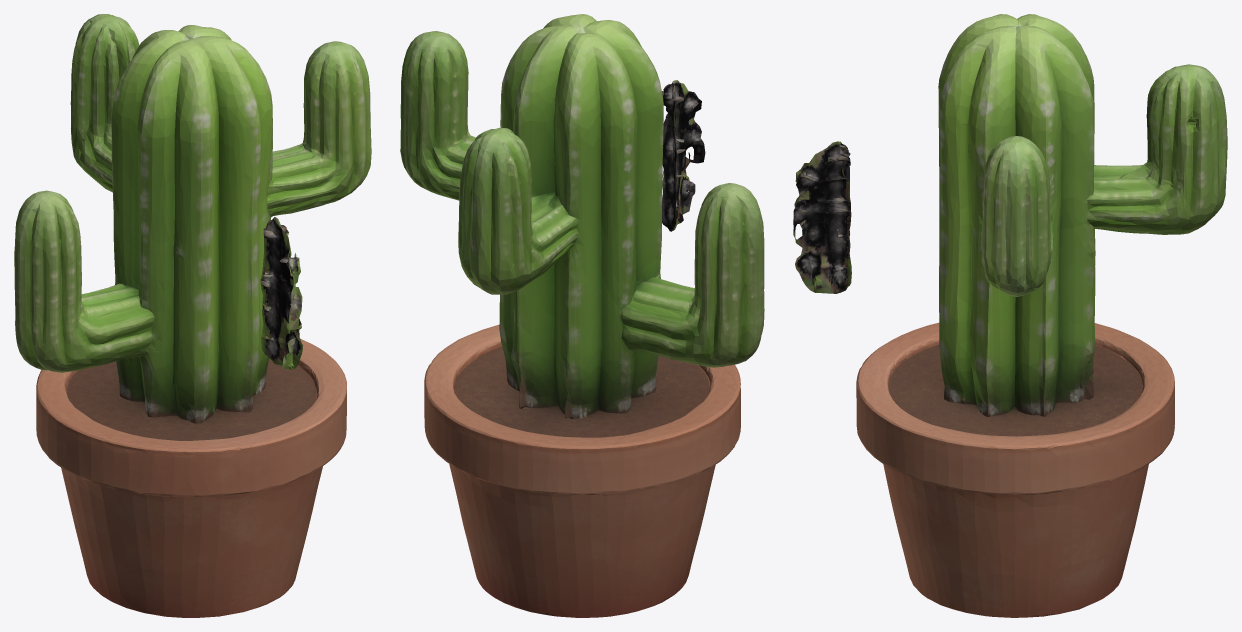
Rendered from cactus.glb.
The picture shows the model from 3 angles, left to right: view 1: azimuth 30°, elevation 25°; view 2: azimuth 150°, elevation 25°; view 3: azimuth 270°, elevation 25°; orthographic projection. The views are drawn at different scales.
Visible parts, largest first — view 1: world; view 2: world; view 3: world.
Part boxes in pixels (bbox=[...]): world: bbox=[14, 14, 371, 617]; world: bbox=[400, 14, 764, 617]; world: bbox=[793, 14, 1227, 617].
Size of the model in its own units: 0.6817 by 0.9951 by 0.7121.
1 material, 1 textured.
